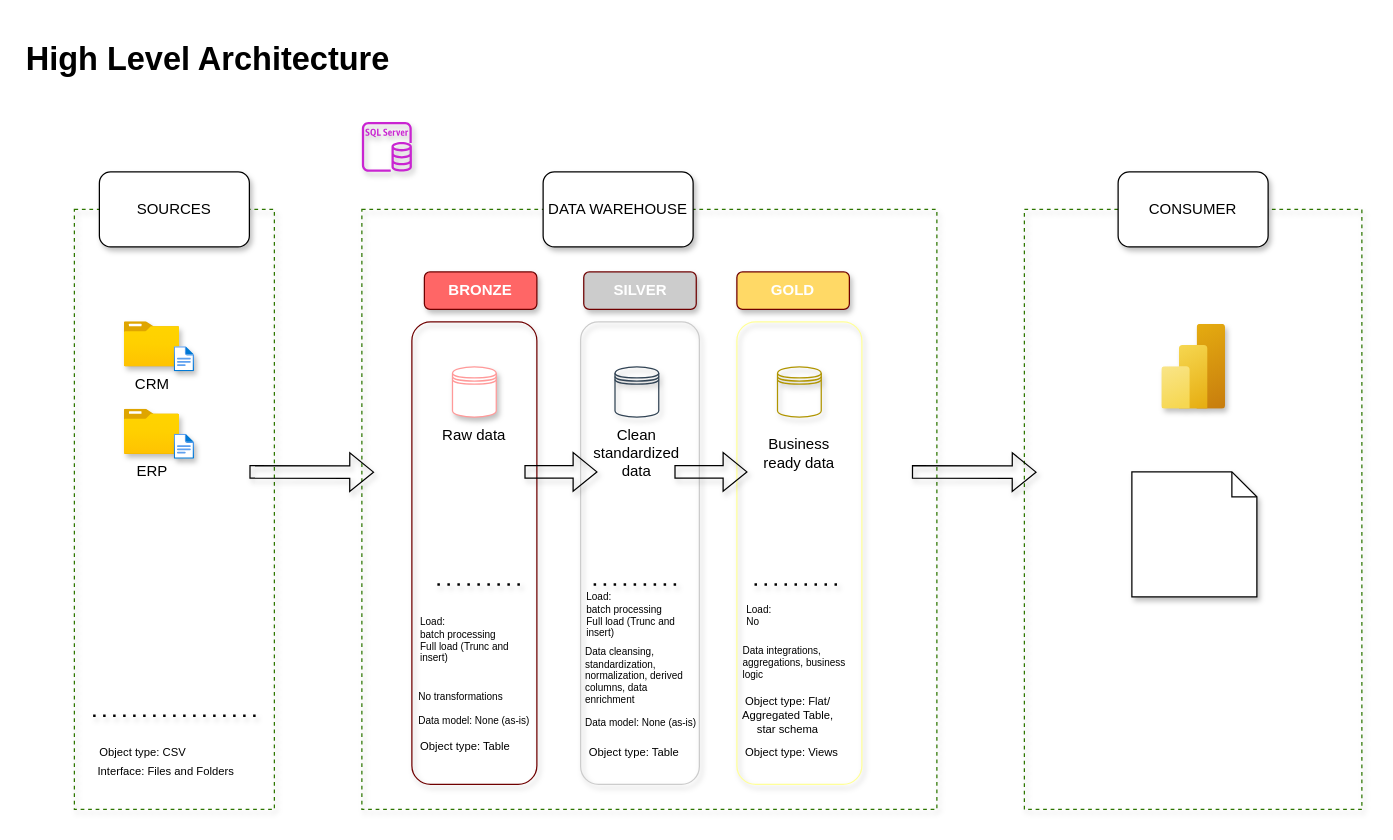
Some shapes in this 1393 by 840 pixel diagram are drawn without their labels. The centre of each missing label's shape, as x and y in pixels:
"BI" belongs at (x=1194, y=368).
"MS" belongs at (x=387, y=148).
"Tableau, Machine learning, SQL queries" belongs at (x=1195, y=536).
